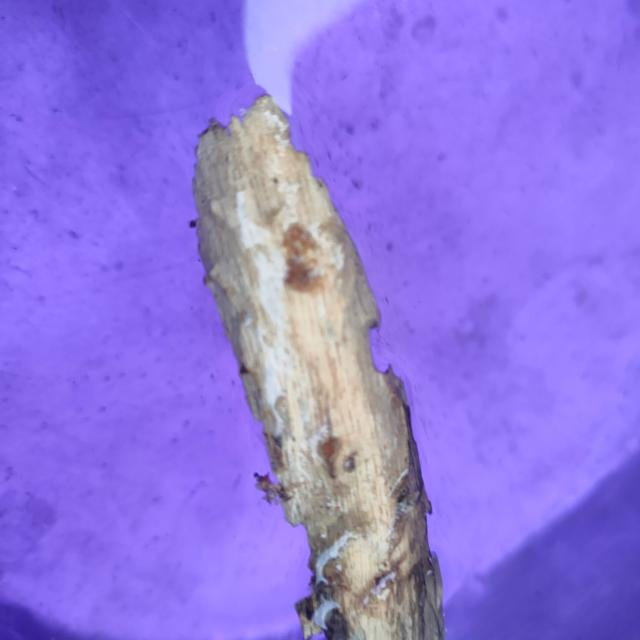litter: (166, 80, 460, 638)
